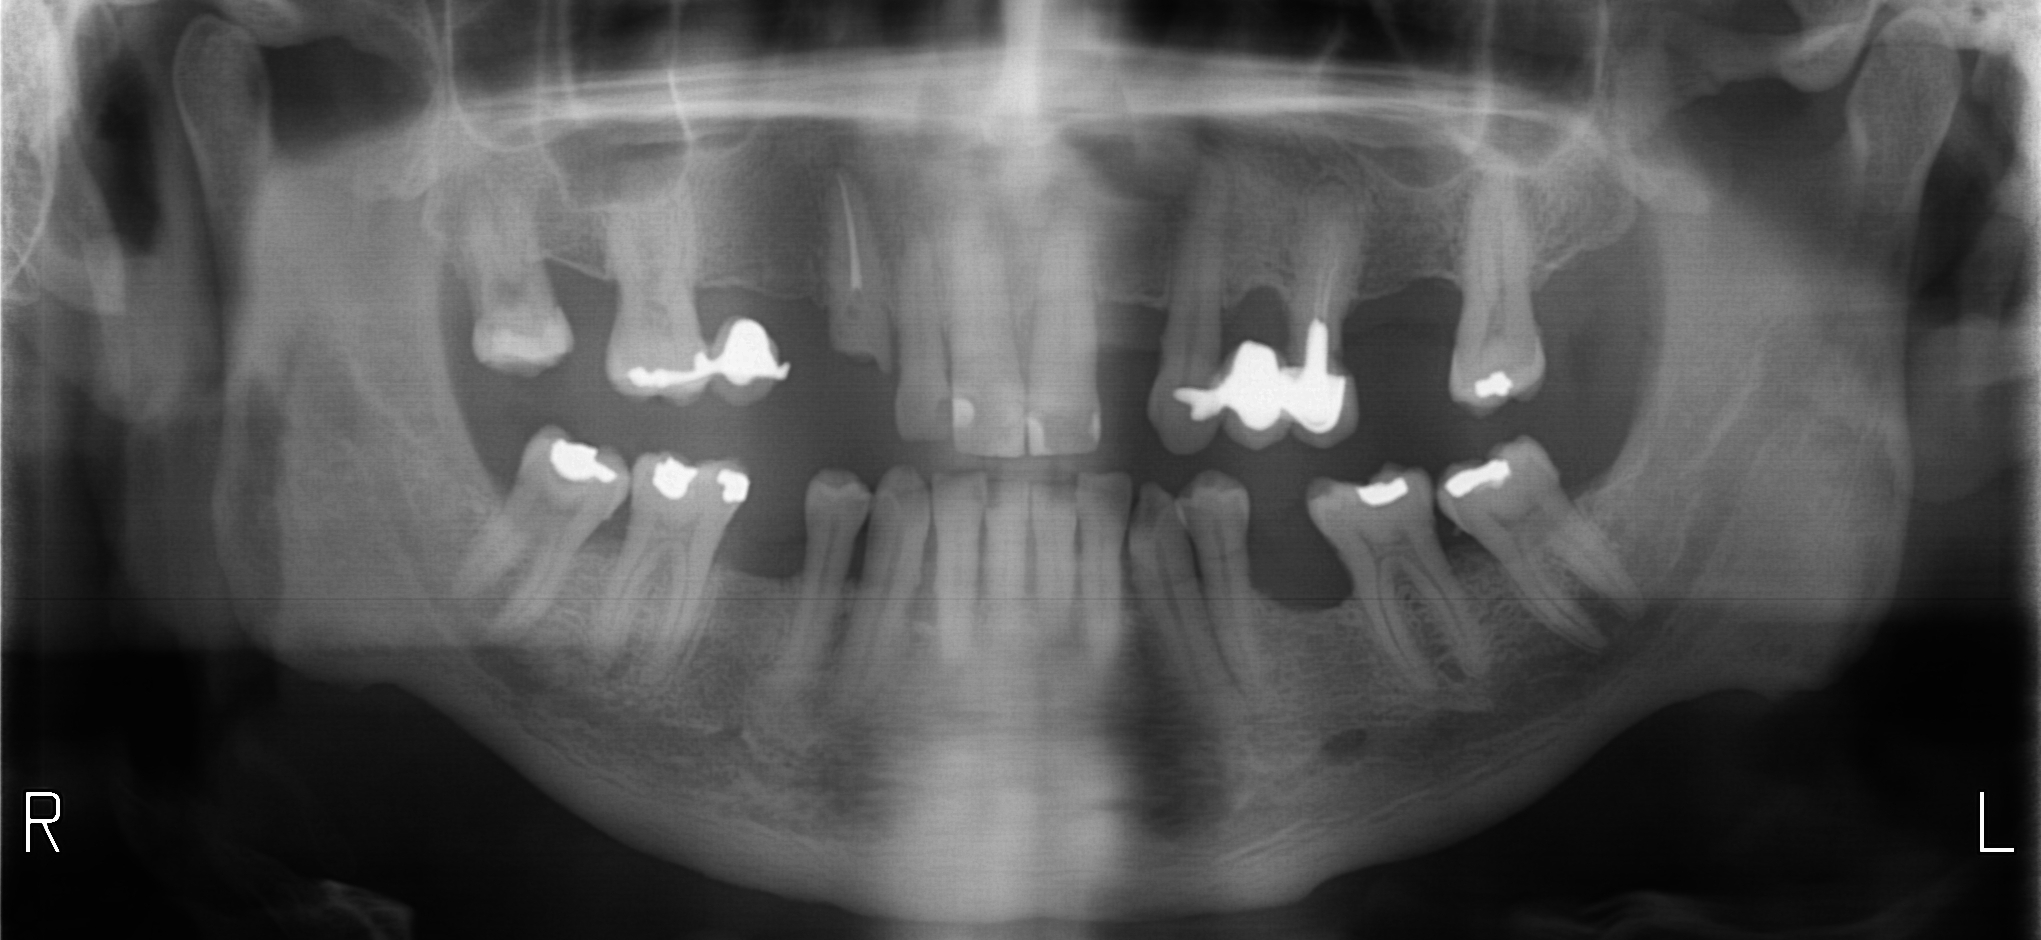cavity: (1311, 475, 1334, 492), (845, 302, 866, 314), (1330, 353, 1341, 365), (940, 402, 946, 419)
